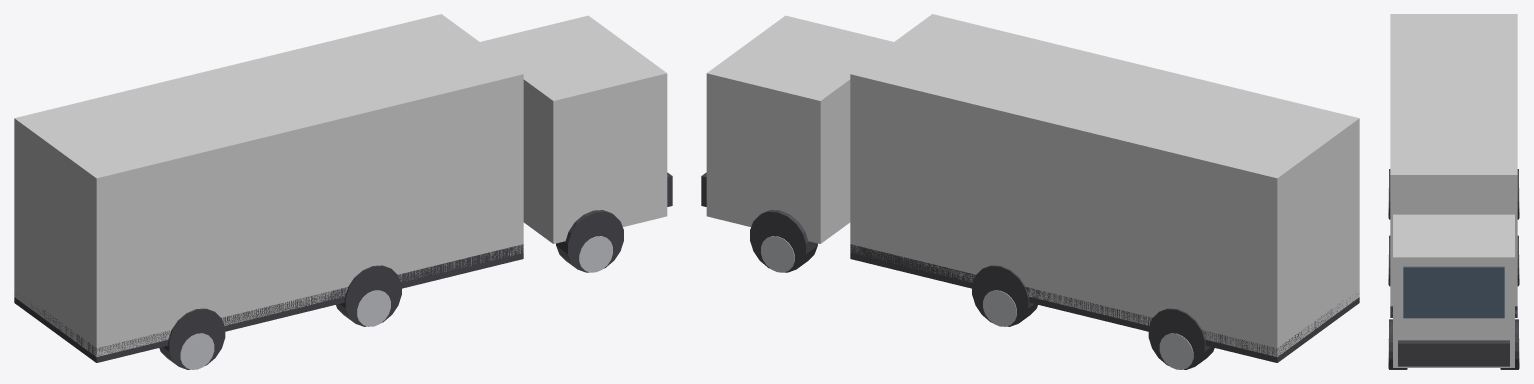
Rendered from truck.glb.
3 views of the same model, side by side, from view 1: azimuth 30°, elevation 25°; view 2: azimuth 150°, elevation 25°; view 3: azimuth 270°, elevation 25° (orthographic). The views are drawn at different scales.
Visible parts, largest first — view 1: Cube, Cube.002, Cube.001, Cylinder.008, Cylinder, Cylinder.004, Cylinder.001, Cylinder.005, Cylinder.009; view 2: Cube, Cube.002, Cube.001, Cylinder.010, Cylinder.002, Cylinder.006, Cylinder.003, Cylinder.007, Cylinder.011; view 3: Cube, Cube.002, Cube.003, Cube.004, Cylinder.008, Cylinder.010.
Boxes of the visible parts, left/top/right/bottom form: Cube: left=14, top=14, right=523, bottom=357; Cube.002: left=480, top=15, right=667, bottom=243; Cube.001: left=14, top=244, right=523, bottom=362; Cylinder.008: left=556, top=210, right=623, bottom=272; Cylinder: left=159, top=308, right=225, bottom=369; Cylinder.004: left=336, top=265, right=401, bottom=326; Cylinder.001: left=180, top=333, right=214, bottom=369; Cylinder.005: left=357, top=290, right=390, bottom=326; Cylinder.009: left=579, top=236, right=612, bottom=272; Cube: left=850, top=14, right=1359, bottom=357; Cube.002: left=706, top=15, right=893, bottom=243; Cube.001: left=850, top=244, right=1359, bottom=362; Cylinder.010: left=750, top=210, right=817, bottom=272; Cylinder.002: left=1148, top=308, right=1214, bottom=369; Cylinder.006: left=972, top=265, right=1037, bottom=326; Cylinder.003: left=1159, top=333, right=1193, bottom=369; Cylinder.007: left=983, top=290, right=1016, bottom=326; Cylinder.011: left=761, top=236, right=794, bottom=272; Cube: left=1390, top=14, right=1517, bottom=313; Cube.002: left=1393, top=214, right=1514, bottom=367; Cube.003: left=1403, top=266, right=1504, bottom=318; Cube.004: left=1398, top=340, right=1509, bottom=366; Cylinder.008: left=1389, top=319, right=1407, bottom=369; Cylinder.010: left=1500, top=319, right=1518, bottom=369.
Bounding box in the file's own units: 10.2 × 3.6 × 2.58.
